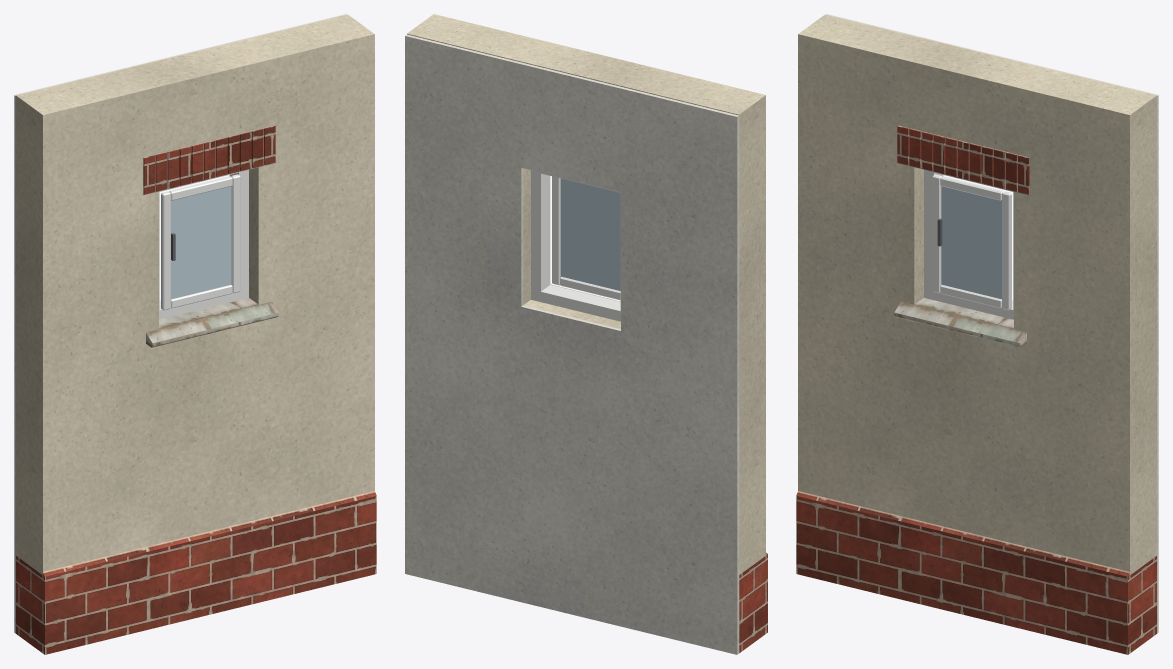
File: w_g_small.glb
3 renders of one model, left to right at view 1: azimuth 30°, elevation 25°; view 2: azimuth 150°, elevation 25°; view 3: azimuth 330°, elevation 25°, orthographic.
Parts seen in each view (by area): view 1: w_g_small_render, w_g_small_brick, w_g_small_glass, w_g_small_sash, w_g_small_cill, w_g_small_frame, w_g_small_plaster; view 2: w_g_small_plaster, w_g_small_render, w_g_small_glass, w_g_small_frame, w_g_small_brick, w_g_small_sash; view 3: w_g_small_render, w_g_small_brick, w_g_small_glass, w_g_small_sash, w_g_small_cill, w_g_small_frame, w_g_small_plaster.
Boxes of the visible parts, x1,y1,x2,y2 form: w_g_small_render: (16,14,374,574); w_g_small_brick: (16,125,376,654); w_g_small_glass: (171,186,231,299); w_g_small_sash: (161,174,240,310); w_g_small_cill: (142,162,278,347); w_g_small_frame: (159,169,248,319); w_g_small_plaster: (14,14,346,633); w_g_small_plaster: (405,34,739,654); w_g_small_render: (407,14,765,574); w_g_small_glass: (560,178,620,290); w_g_small_frame: (531,170,620,321); w_g_small_brick: (739,552,767,652); w_g_small_sash: (552,176,620,300); w_g_small_render: (798,14,1156,574); w_g_small_brick: (796,125,1156,654); w_g_small_glass: (941,186,1001,299); w_g_small_sash: (932,174,1011,310); w_g_small_cill: (894,162,1030,347); w_g_small_frame: (924,169,1013,319); w_g_small_plaster: (826,14,1158,633).
Size of the model in its own units: 2 by 3.1 by 0.37.
8 materials, 4 textured.
